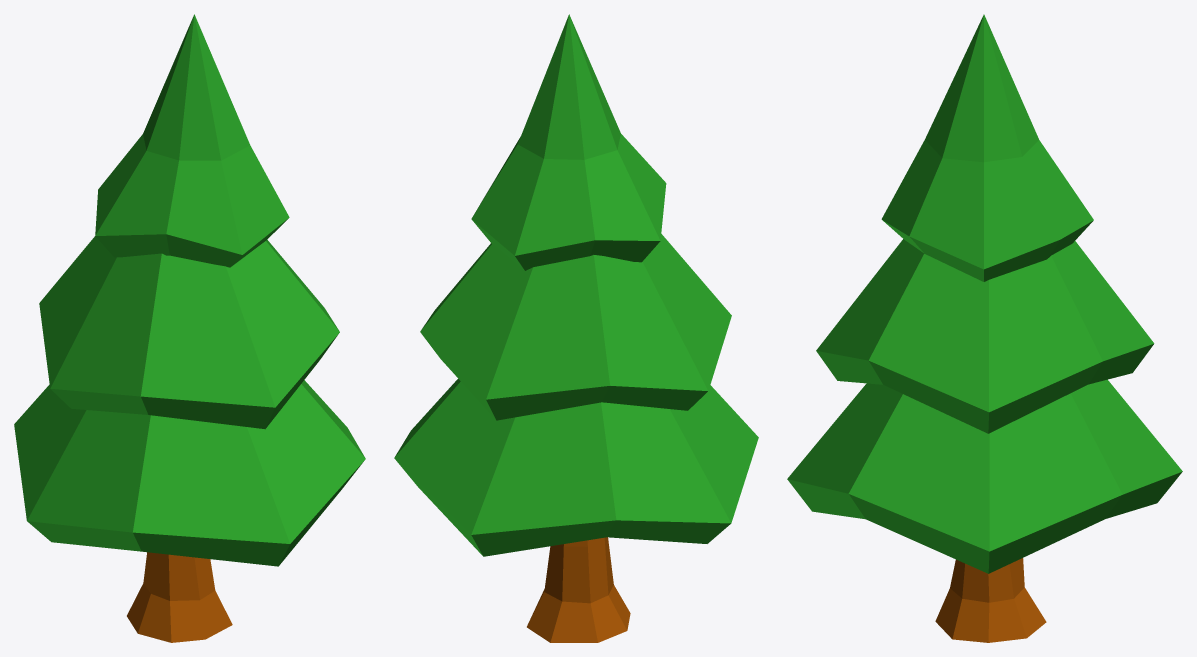
File: Tree_Spruce2.fbx
3 views of the same model, side by side, from view 1: azimuth 30°, elevation 25°; view 2: azimuth 150°, elevation 25°; view 3: azimuth 270°, elevation 25° (orthographic).
Parts seen in each view (by area): view 1: Tree_Spruce2; view 2: Tree_Spruce2; view 3: Tree_Spruce2.
Boxes of the visible parts, x1,y1,x2,y2 form: Tree_Spruce2: (14,14,365,642); Tree_Spruce2: (394,14,758,642); Tree_Spruce2: (787,14,1182,642).
Size of the model in its own units: 4.79 by 5.04 by 8.62.
